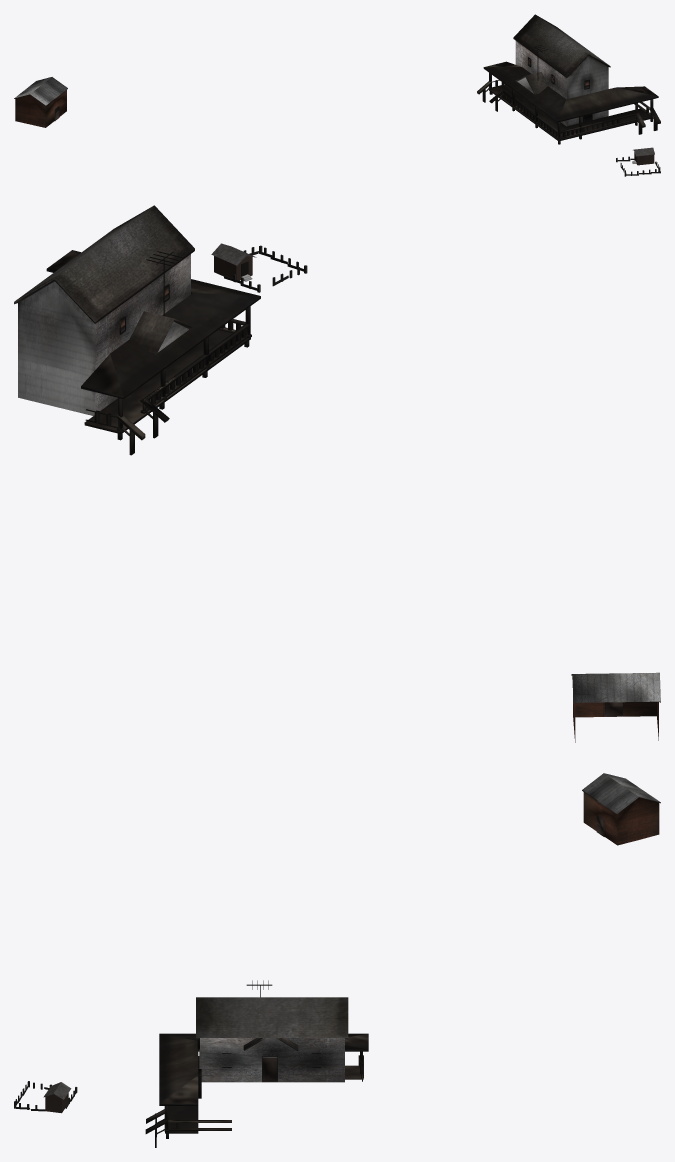
File: houses.fbx
3 views of the same model, one above another, from view 1: azimuth 30°, elevation 25°; view 2: azimuth 150°, elevation 25°; view 3: azimuth 270°, elevation 25° (orthographic). The views are drawn at different scales.
Visible parts, largest first — view 1: polySurface1668, polySurface1720, polySurface1711; view 2: polySurface1668, polySurface1720, polySurface1711; view 3: polySurface1668, polySurface1720, polySurface1711.
Part boxes in pixels (<box>): polySurface1668: <box>477,14,660,144</box>; polySurface1720: <box>14,77,67,127</box>; polySurface1711: <box>616,147,660,176</box>; polySurface1668: <box>14,205,260,455</box>; polySurface1720: <box>571,672,660,742</box>; polySurface1711: <box>211,243,307,292</box>; polySurface1668: <box>145,980,368,1147</box>; polySurface1720: <box>582,773,660,845</box>; polySurface1711: <box>14,1081,77,1113</box>.
Size of the model in its own units: 273 by 43.24 by 225.
